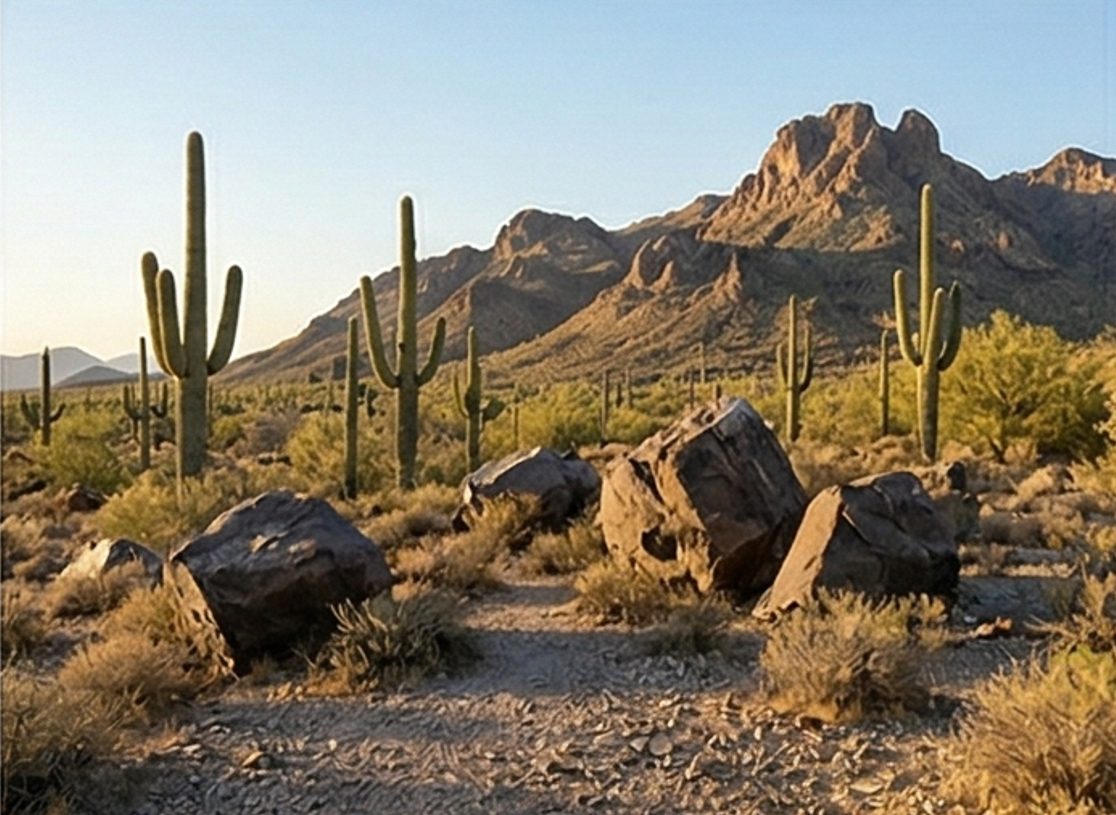rocks: (464, 397, 959, 615), (168, 492, 391, 658)
